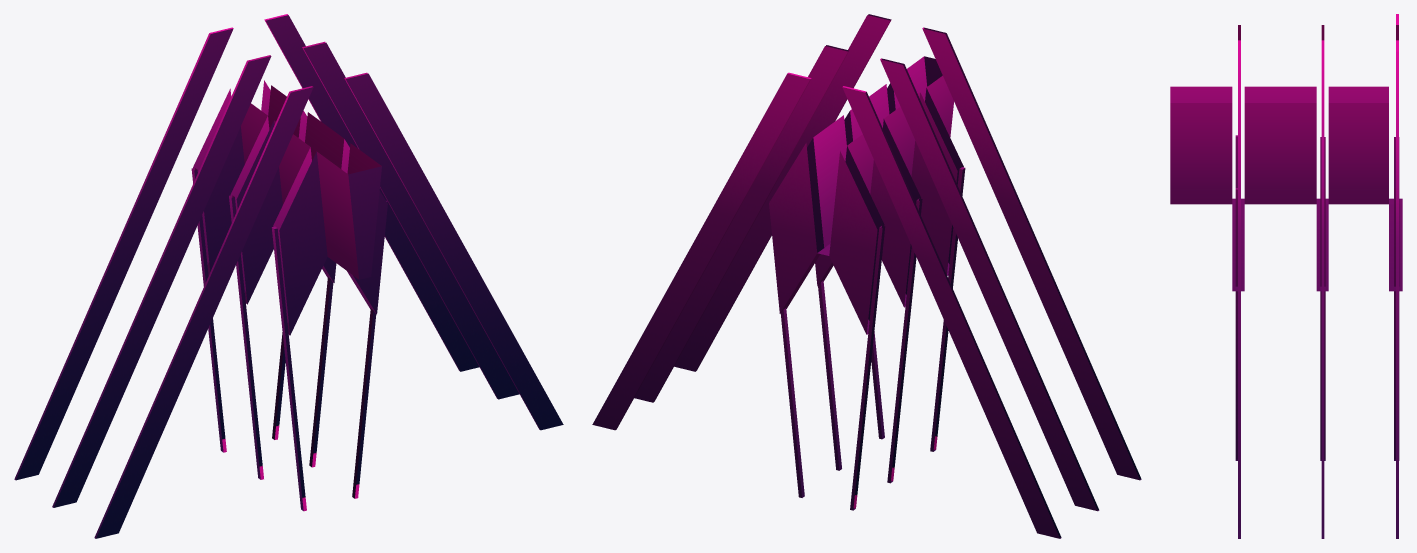
Rendered from outher_tonnel_006.fbx.
3 renders of one model, left to right at view 1: azimuth 30°, elevation 25°; view 2: azimuth 150°, elevation 25°; view 3: azimuth 270°, elevation 25°, orthographic.
Parts seen in each view (by area): view 1: outher_tonnel_006; view 2: outher_tonnel_006; view 3: outher_tonnel_006.
Boxes of the visible parts, x1,y1,x2,y2 form: outher_tonnel_006: [14, 14, 563, 538]; outher_tonnel_006: [592, 14, 1141, 538]; outher_tonnel_006: [1170, 14, 1402, 538].
Size of the model in its own units: 183 by 157 by 79.89.
